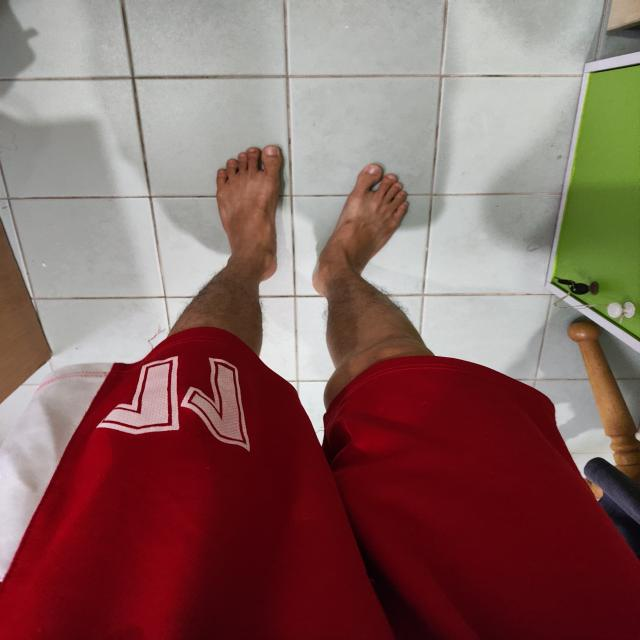No_Shoes: (313, 158, 411, 324), (177, 136, 286, 284)
